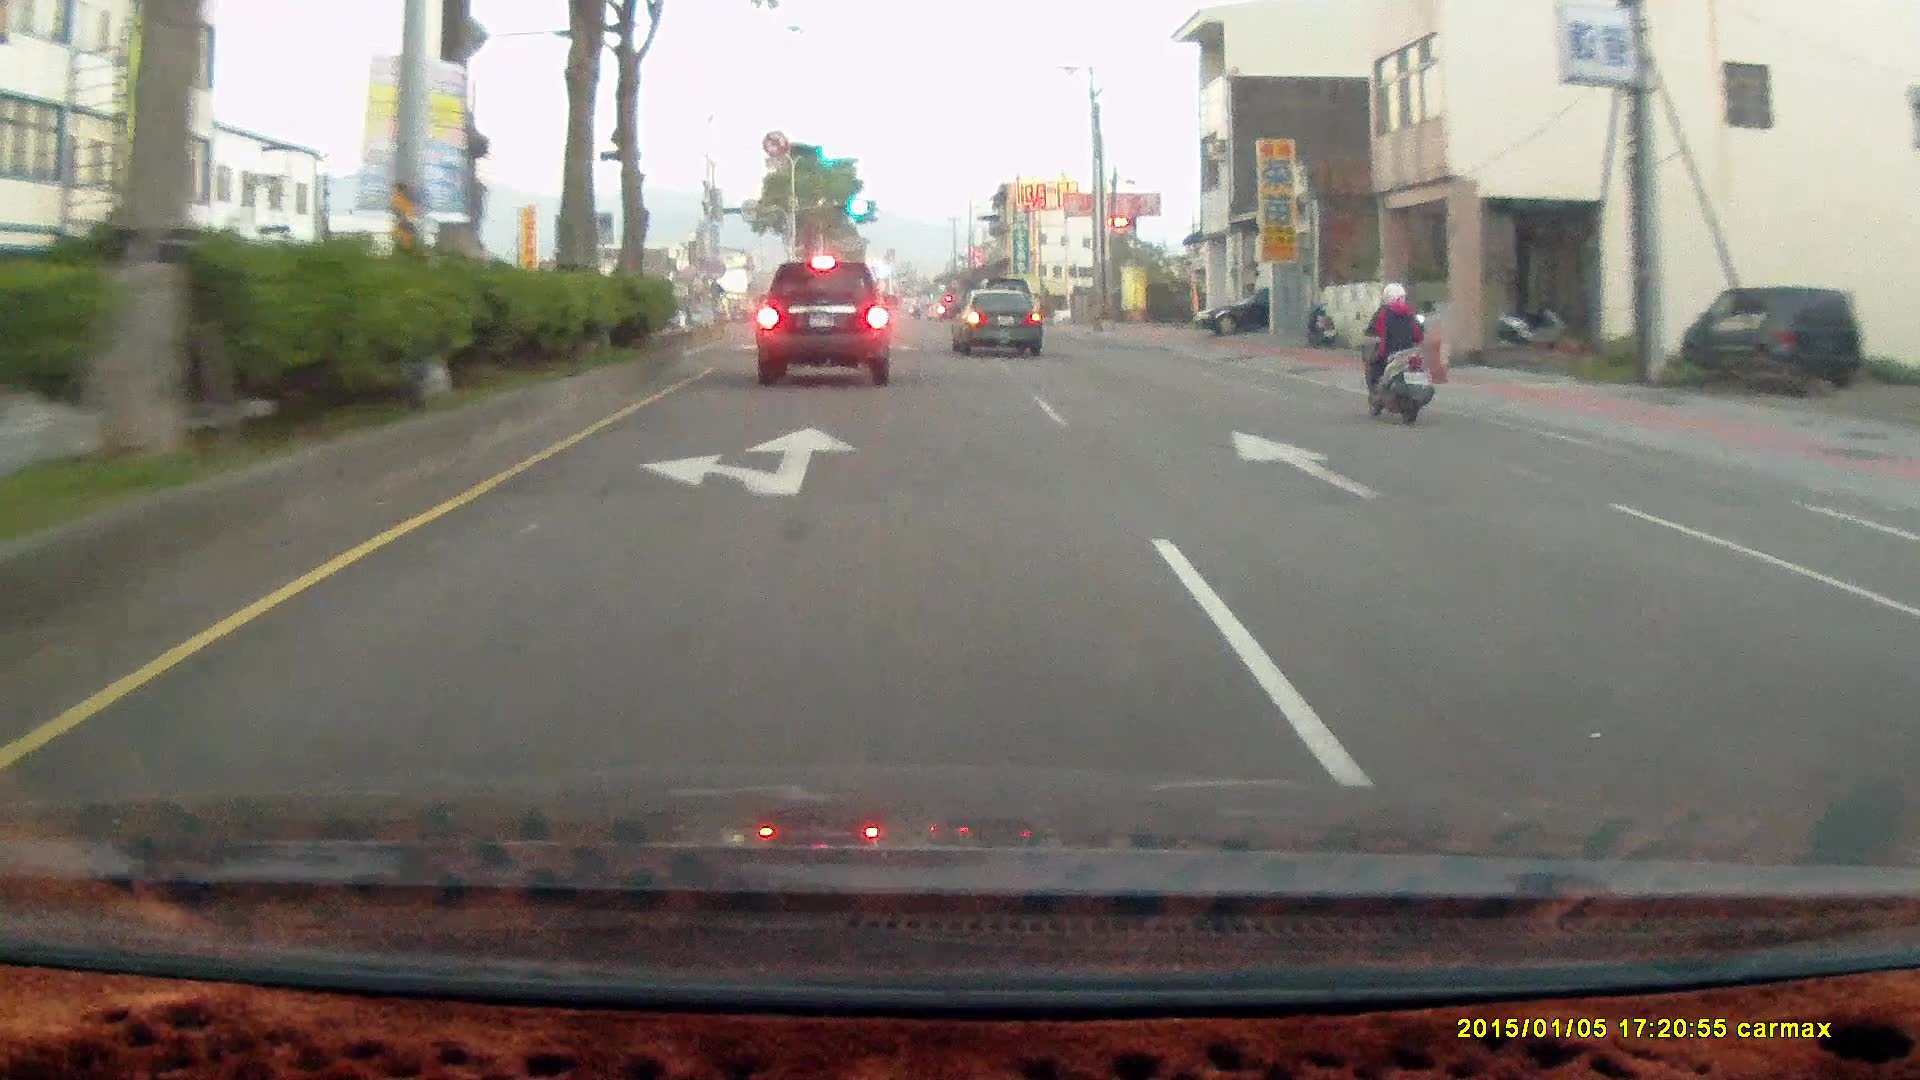rider: (1344, 265, 1450, 434), (1357, 285, 1434, 432)
vehicle: (1681, 285, 1865, 390), (1681, 283, 1865, 389), (756, 260, 896, 388), (756, 260, 897, 385), (1195, 285, 1329, 337), (951, 288, 1047, 358), (949, 289, 1041, 355), (1195, 285, 1273, 338)
